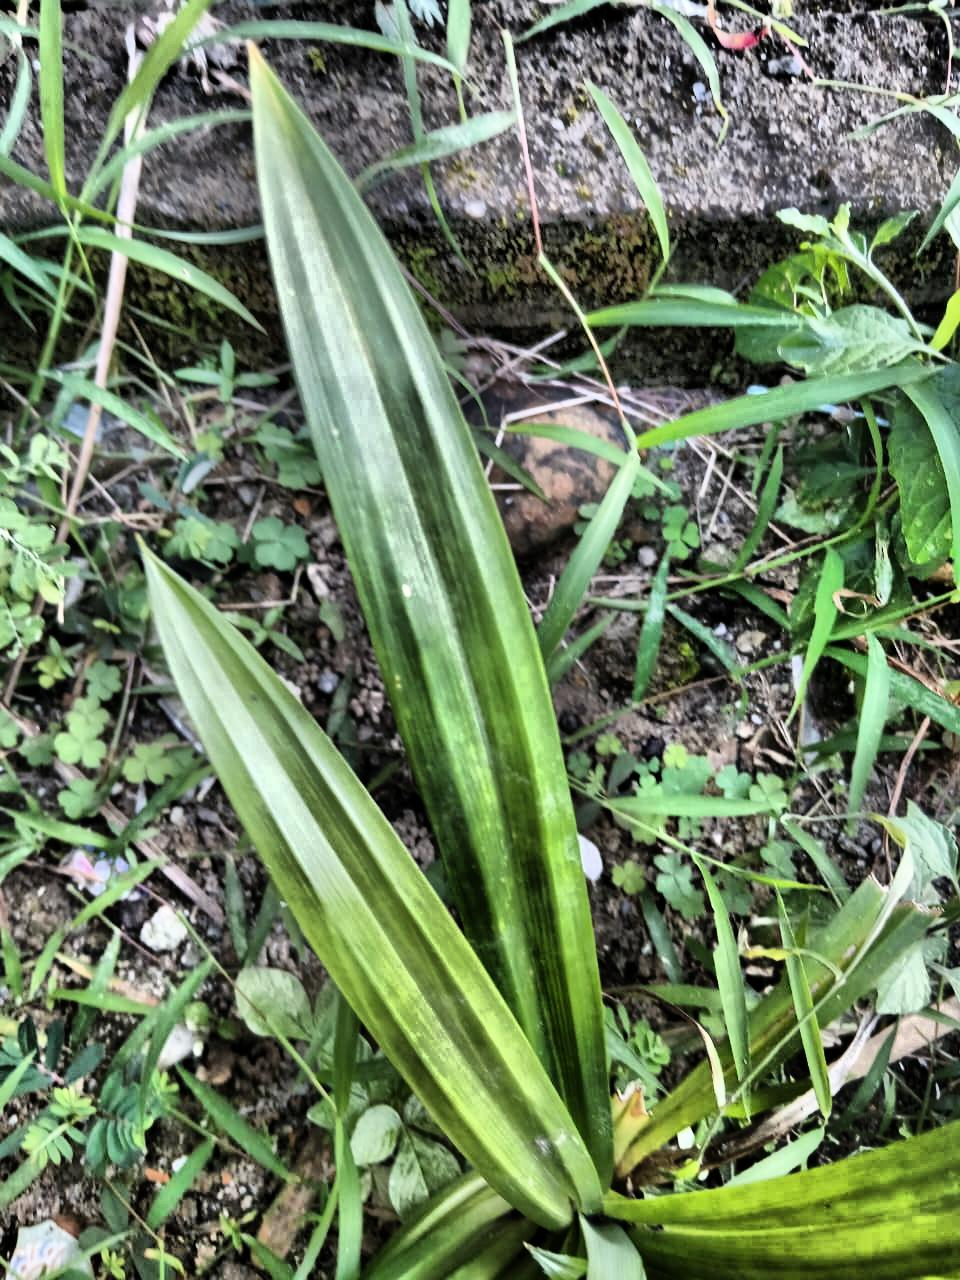daun pandan: (142, 47, 959, 1279)
